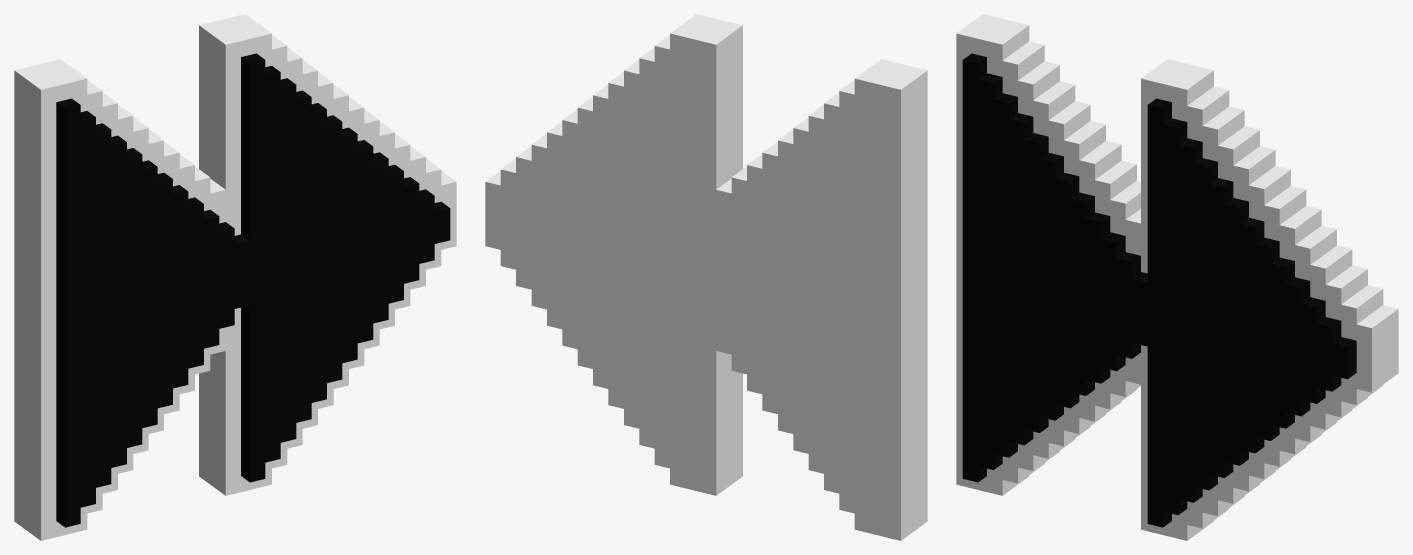
Rendered from DoubleArrows.dae.
3 renders of one model, left to right at view 1: azimuth 30°, elevation 25°; view 2: azimuth 150°, elevation 25°; view 3: azimuth 330°, elevation 25°, orthographic.
Parts seen in each view (by area): view 1: Matrix; view 2: Matrix; view 3: Matrix.
Boxes of the visible parts, bbox=[...] form: Matrix: bbox=[14, 14, 456, 540]; Matrix: bbox=[485, 14, 927, 540]; Matrix: bbox=[956, 14, 1398, 540].
Bounding box in the file's own units: 27 × 28 × 4.
Materials: 1 (1 with a texture image).
